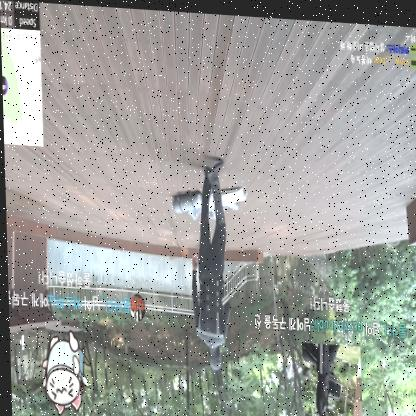donation: (6, 267, 149, 416), (251, 287, 409, 416)
streamer: (187, 159, 232, 369)
